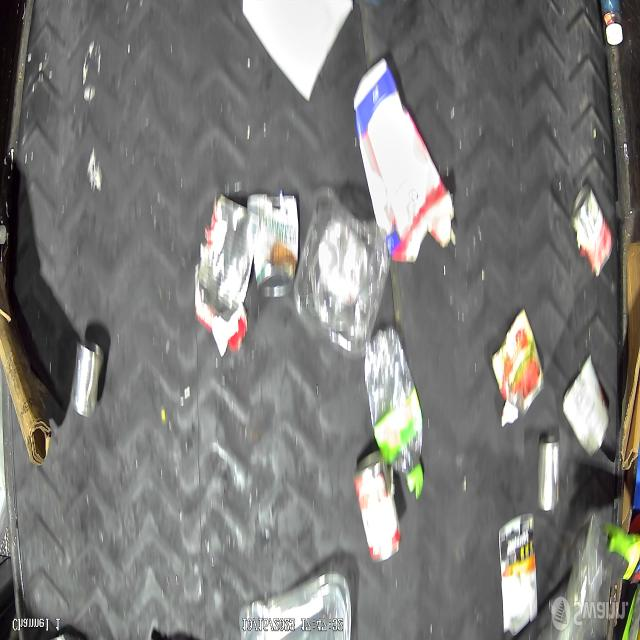can: (253, 194, 300, 297), (358, 454, 396, 563), (68, 336, 105, 422), (578, 188, 610, 276), (538, 444, 558, 512)
plastic_bottle: (366, 335, 424, 494)
